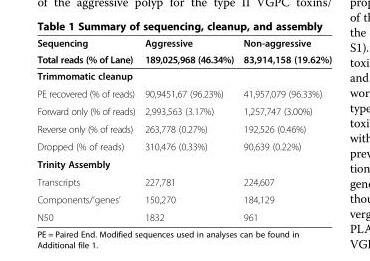table: (36, 36, 331, 222)
table column: (36, 36, 139, 222), (139, 36, 238, 222), (238, 36, 331, 222)
table column header: (36, 36, 331, 67)
table projected row header: (36, 154, 331, 172), (36, 67, 331, 84)
table row: (36, 84, 331, 102), (36, 119, 331, 137), (36, 154, 331, 172), (36, 172, 331, 190), (36, 190, 331, 208), (36, 50, 331, 67), (36, 67, 331, 84), (36, 102, 331, 119), (36, 137, 331, 154), (36, 36, 331, 50), (36, 208, 331, 222)
table spanning cell: (36, 36, 139, 67), (139, 36, 238, 67), (238, 36, 331, 67)
